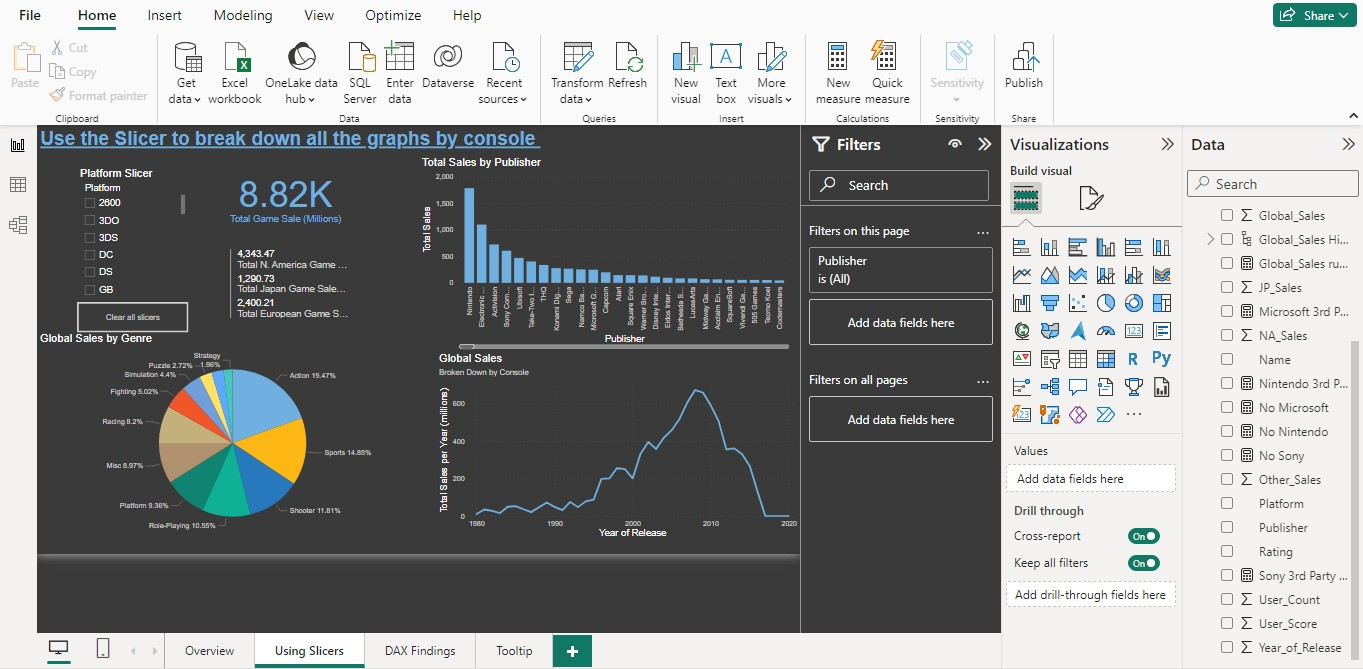

The dashboard page shown, as its layout file describes it:
{"tool":"powerbi","page":{"name":"Using Slicers","canvas":[1280,720],"ordinal":1},"visuals":[{"type":"columnChart","fields":{"Category":["Video_Games_Sales_as_at_22_Dec_2016.Publisher"],"Y":["Sum(Video_Games_Sales_as_at_22_Dec_2016.Global_Sales)"]},"box":[640.6,52.4,626.5,328.8],"z":0},{"type":"actionButton","box":[0,0,100,40],"z":1000},{"type":"pieChart","title":"Global Sales by Genre","fields":{"Y":["Sum(Video_Games_Sales_as_at_22_Dec_2016.Global_Sales)"],"Category":["Video_Games_Sales_as_at_22_Dec_2016.Genre Hierarchy.Genre","Video_Games_Sales_as_at_22_Dec_2016.Genre Hierarchy.Platform","Video_Games_Sales_as_at_22_Dec_2016.Genre Hierarchy.Rating"]},"box":[0,347.2,656.2,351.5],"z":2000},{"type":"lineChart","title":"Global Sales ","fields":{"Category":["Video_Games_Sales_as_at_22_Dec_2016.Year_of_Release"],"Y":["Sum(Video_Games_Sales_as_at_22_Dec_2016.Global_Sales)"]},"box":[669,381.3,610.9,317.5],"z":3000},{"type":"slicer","title":"Platform Slicer","fields":{"Values":["Video_Games_Sales_as_at_22_Dec_2016.Platform"]},"box":[66.6,70.9,187.1,225.4],"z":4000},{"type":"actionButton","box":[66.6,296.2,187.1,51],"z":5000},{"type":"card","fields":{"Values":["Sum(Video_Games_Sales_as_at_22_Dec_2016.Global_Sales)"]},"box":[303.3,70.9,226.8,100.6],"z":6000},{"type":"multiRowCard","fields":{"Values":["Sum(Video_Games_Sales_as_at_22_Dec_2016.NA_Sales)","Sum(Video_Games_Sales_as_at_22_Dec_2016.JP_Sales)","Sum(Video_Games_Sales_as_at_22_Dec_2016.EU_Sales)"]},"box":[318.9,195.6,211.2,164.4],"z":7000},{"type":"textbox","box":[0,0,850.4,52.4],"z":8000}]}

Visuals, with their boxes on the page's 1280x720 design canvas (x1, y1, x2, y2). These are canvas units, not pixel positions in the 1363x669 screenshot, which may show the page scaled, cropped or inside an application window:
columnChart - Video_Games_Sales_as_at_22_Dec_2016.Publisher x Sum(Video_Games_Sales_as_at_22_Dec_2016.Global_Sales): bbox(641, 52, 1267, 381)
actionButton: bbox(0, 0, 100, 40)
"Global Sales by Genre" pieChart: bbox(0, 347, 656, 699)
"Global Sales " lineChart: bbox(669, 381, 1280, 699)
"Platform Slicer" slicer: bbox(67, 71, 254, 296)
actionButton: bbox(67, 296, 254, 347)
card - Sum(Video_Games_Sales_as_at_22_Dec_2016.Global_Sales): bbox(303, 71, 530, 172)
multiRowCard - Sum(Video_Games_Sales_as_at_22_Dec_2016.NA_Sales) x Sum(Video_Games_Sales_as_at_22_Dec_2016.JP_Sales): bbox(319, 196, 530, 360)
textbox: bbox(0, 0, 850, 52)
